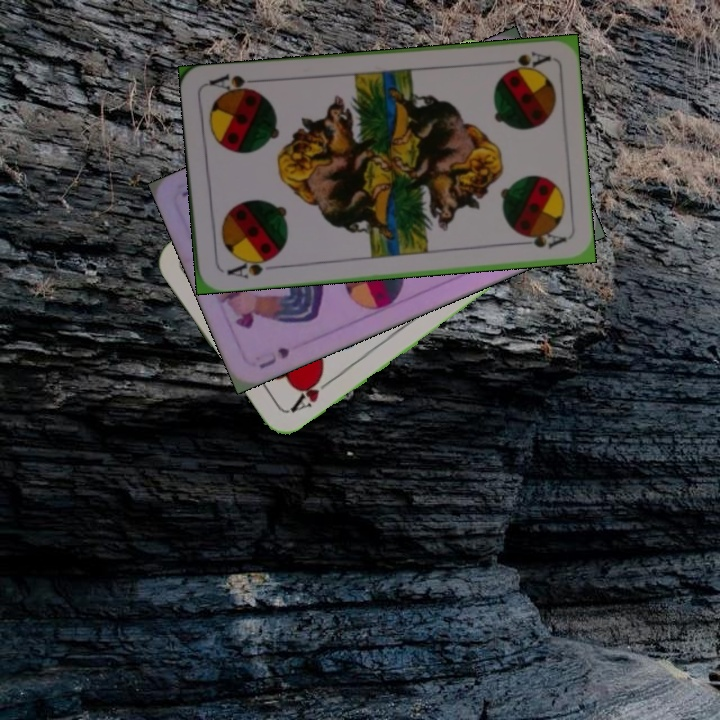HA: (286, 370, 335, 416)
SA: (223, 252, 278, 281), (501, 47, 553, 74)
SU: (254, 343, 295, 372)
